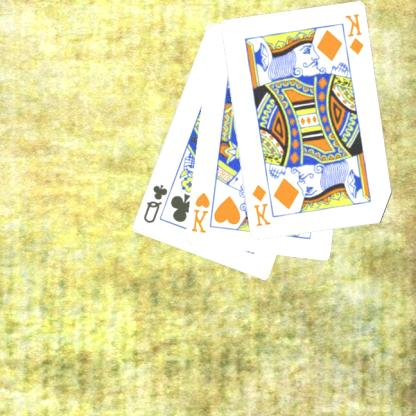KD: (251, 182, 274, 228), (344, 11, 367, 56)
KH: (190, 190, 213, 234)
QC: (142, 181, 171, 225)
